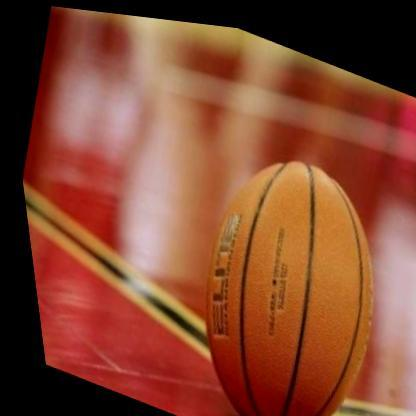basketball: (140, 114, 416, 416)
